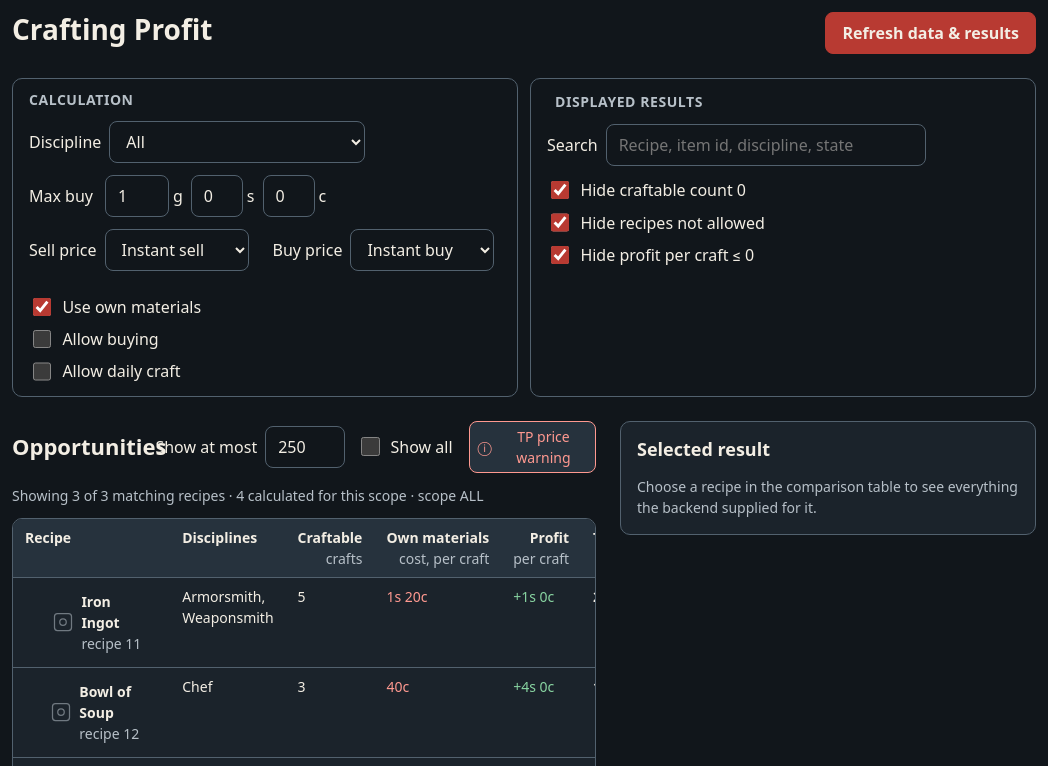
CraftingProfitScreen › discardsALateResponseThatBelongsToASupersededSelection
Step 1. Select "Chef" in the dropdown with test id "scope-selector" → (237, 142), box [109, 120, 365, 162]
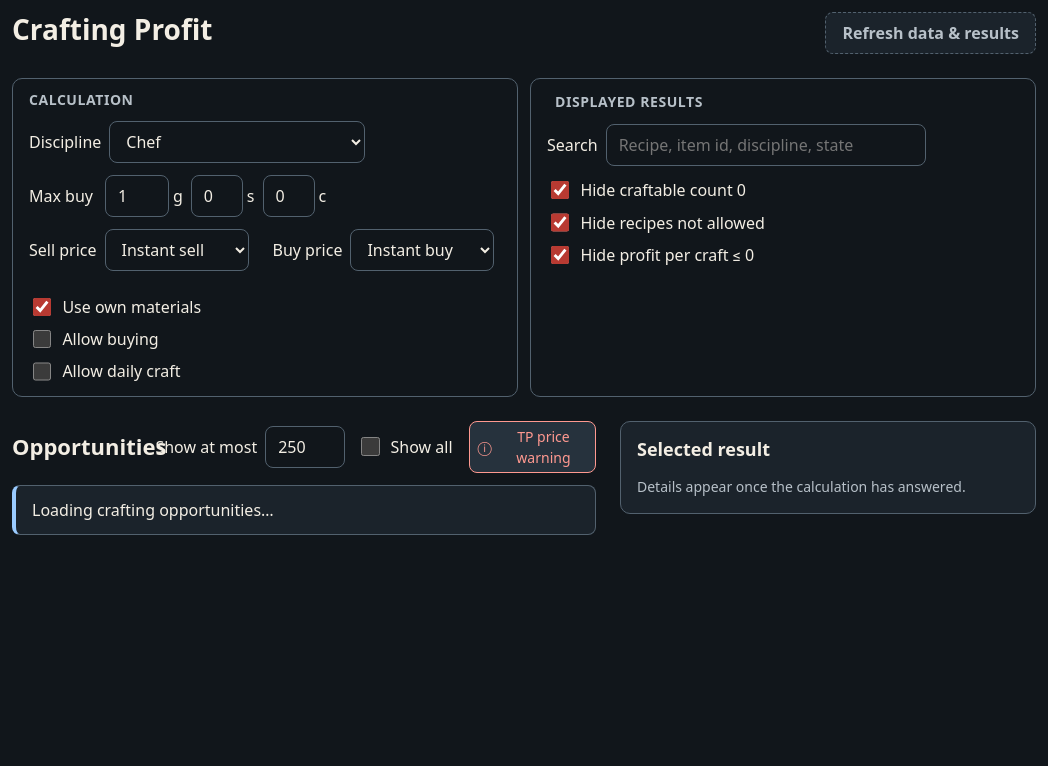
Step 2. Select "Huntsman" in the dropdown with test id "scope-selector" → (237, 142), box [109, 120, 365, 162]
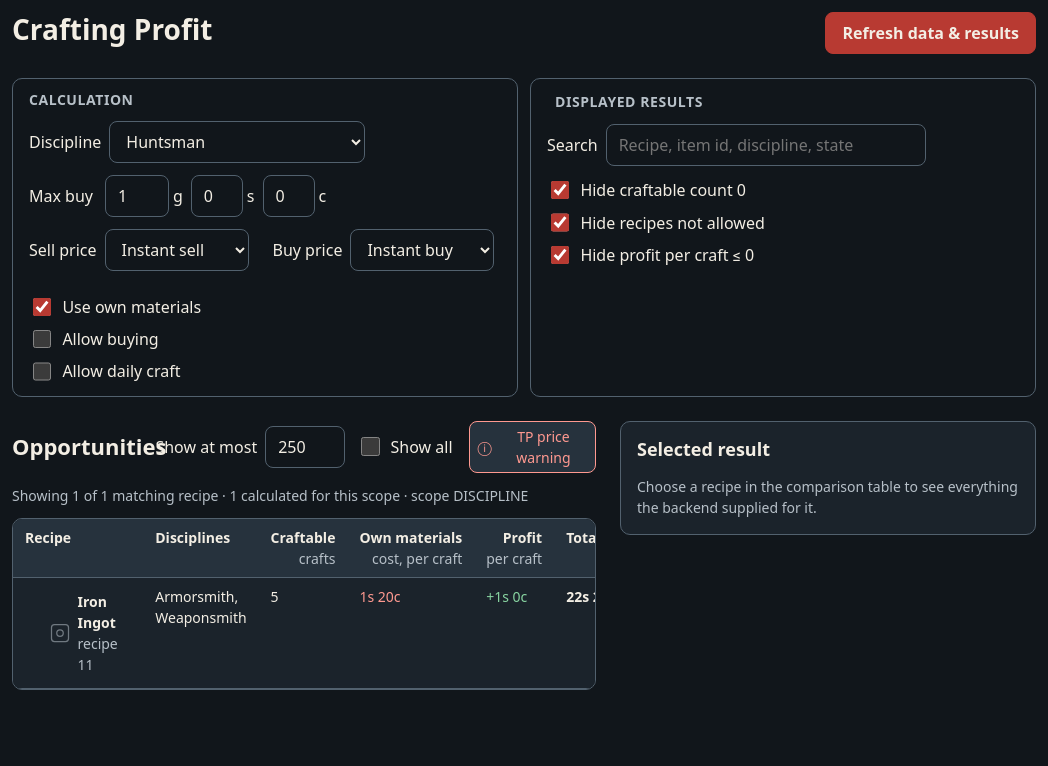
Expected: the number of rows with test id "profit-row" is 1, [13, 578, 596, 688]
Expected: the row with test id "profit-row" shows "Iron Ingot", [25, 586, 131, 680]
